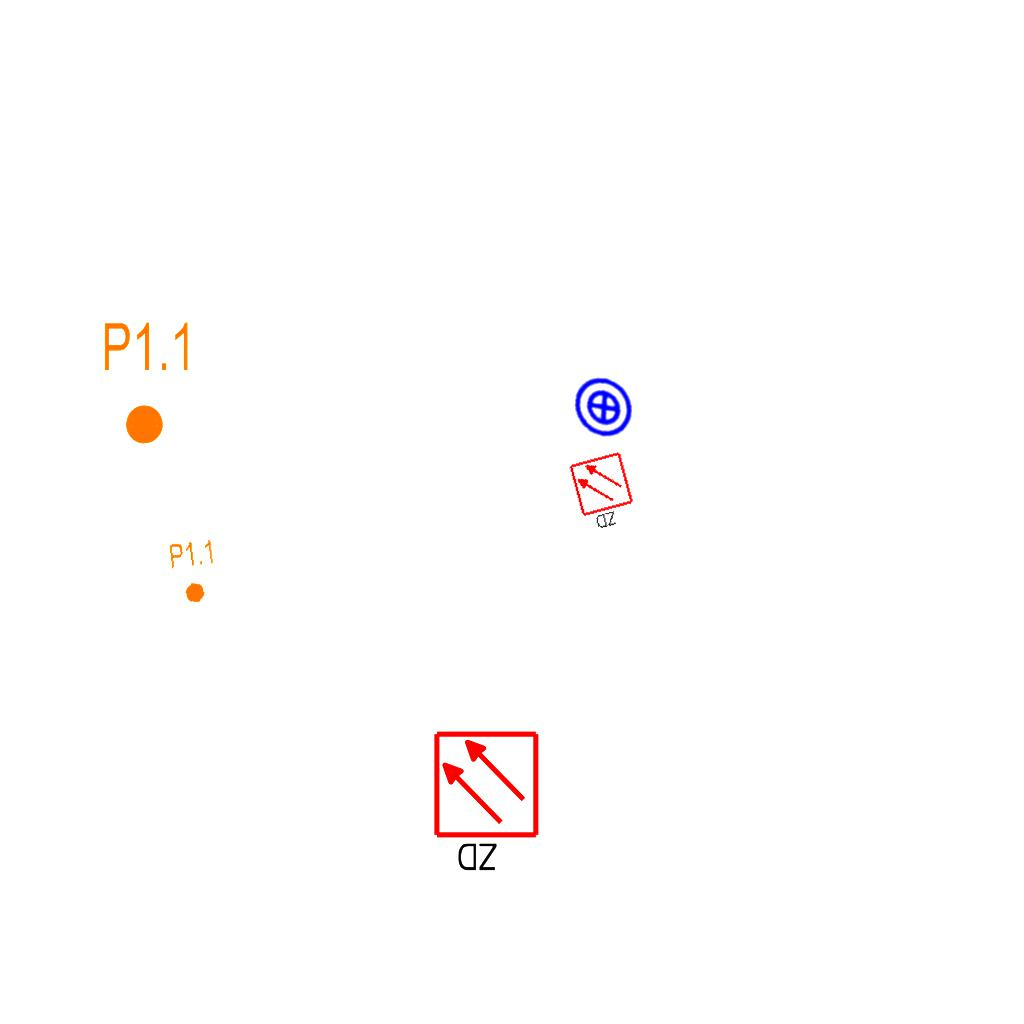Downlight_LED_Einbauleuchten_Flur: (101, 319, 194, 447), (167, 537, 221, 607)
Taster_beleuchtet: (557, 360, 651, 454)
ZD_Melder_in_Zwischendecke_mit_Revisionsoeffnung_mind_40_x_40_cm: (431, 729, 545, 878), (567, 449, 642, 537)
